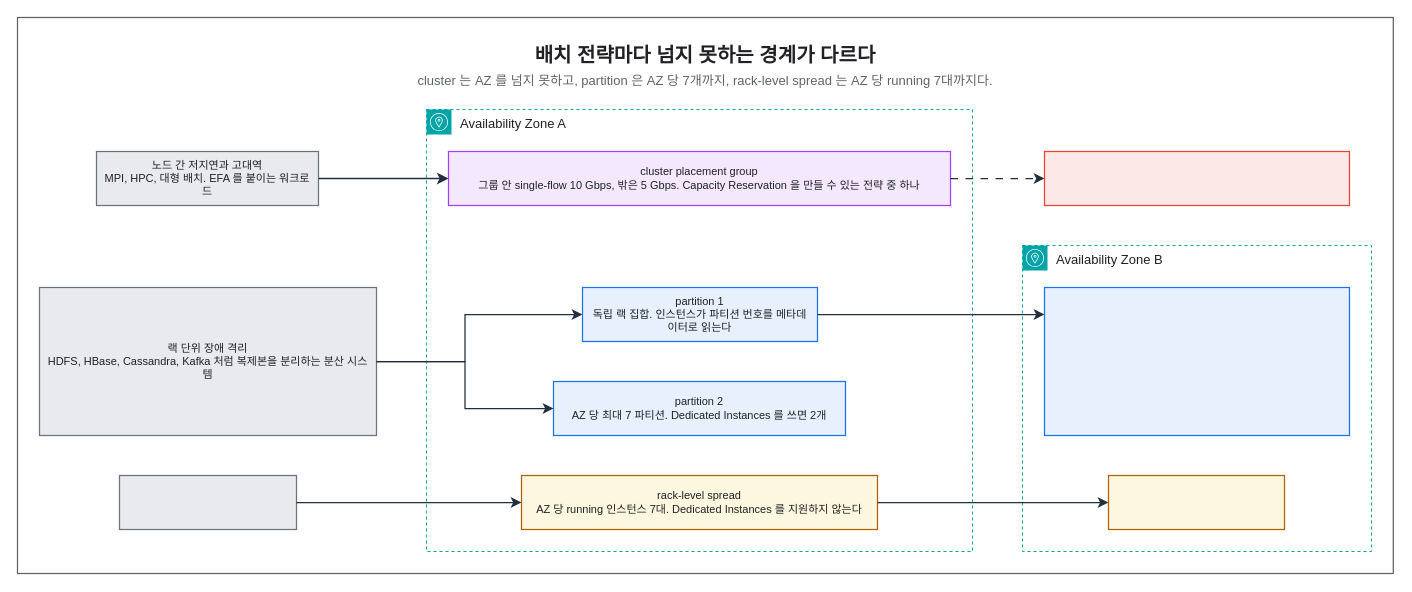
Some shapes in this 1412 by 592 pixel diagram are drawn without their labels. The shapes that lost their labels are listed below. From the top down, each one's centre as x and y in pixels, then its label:
[1196,178]: cluster 는 여기까지 오지 못한다 단일 AZ 를 넘을 수 없다. 같은 리전의 peered VPC 는 걸칠 수 있다
[1196,361]: partition 1 같은 그룹의 파티션을 다른 AZ 에도 둘 수 있다
[207,502]: 인스턴스 단위 하드웨어 분리 소수의 핵심 인스턴스를 각각 다른 랙에 둔다
[1196,502]: rack-level spread AZ 3개 리전이면 그룹 전체로 21대
